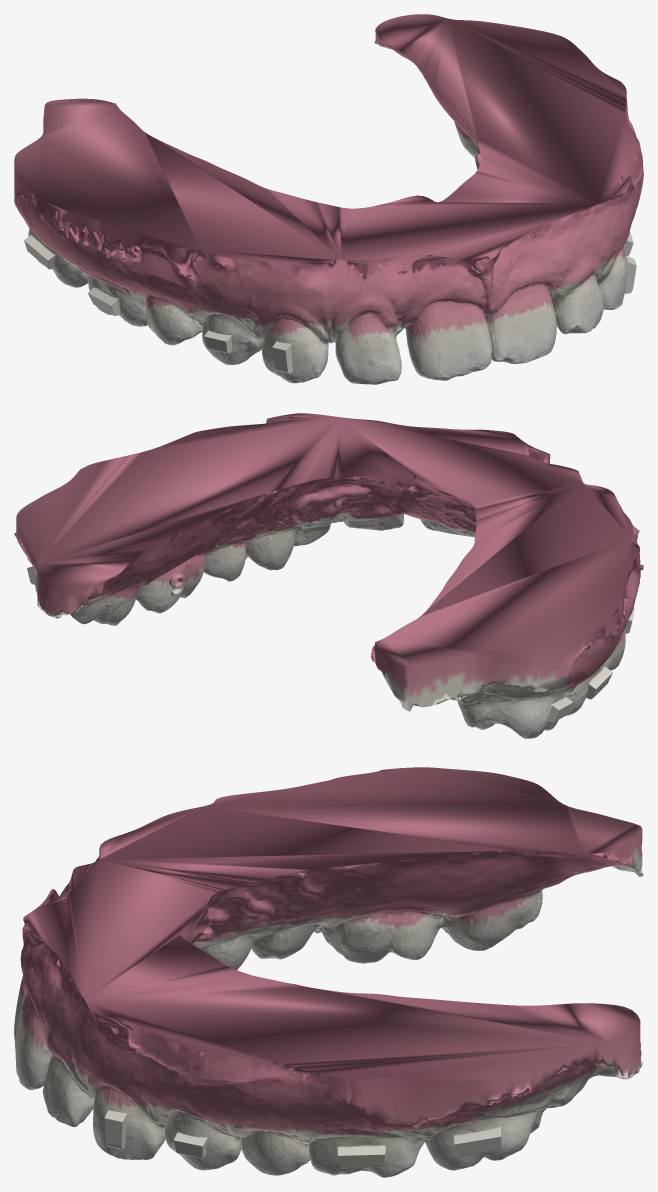
File: Niya Priority Upper jaw - 09 - Model.glb
3 views of the same model, one above another, from view 1: azimuth 30°, elevation 25°; view 2: azimuth 150°, elevation 25°; view 3: azimuth 270°, elevation 25° (orthographic). The views are drawn at different scales.
Visible parts, largest first — view 1: Niya Priority Upper jaw - 09 - Model; view 2: Niya Priority Upper jaw - 09 - Model; view 3: Niya Priority Upper jaw - 09 - Model.
Boxes of the visible parts, x1,y1,x2,y2 form: Niya Priority Upper jaw - 09 - Model: [14, 14, 643, 384]; Niya Priority Upper jaw - 09 - Model: [14, 413, 643, 738]; Niya Priority Upper jaw - 09 - Model: [14, 767, 643, 1177].
Size of the model in its own units: 66.35 by 13.71 by 56.08.
